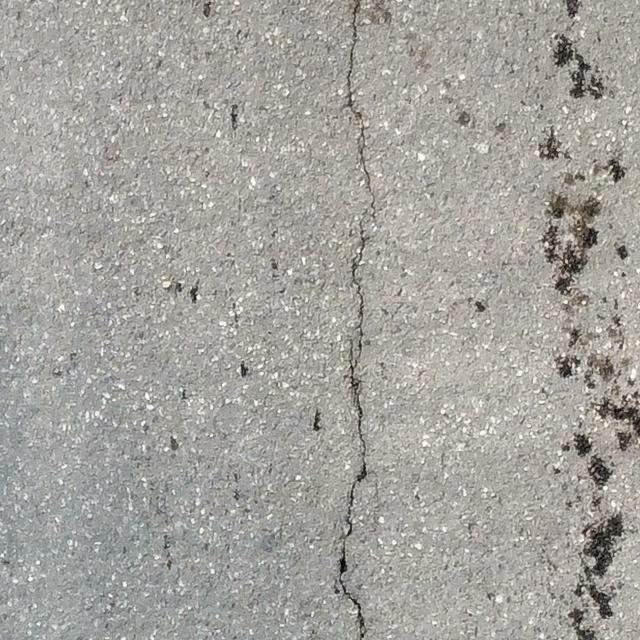LongitudinalCrack: (336, 1, 376, 640)
